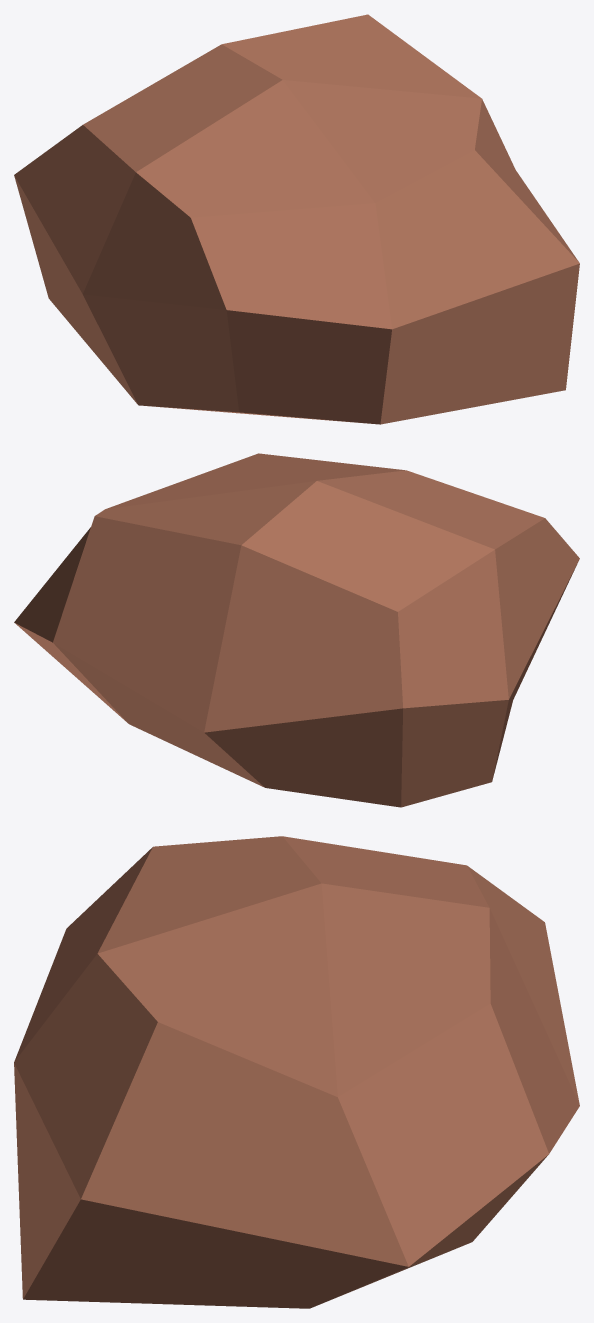
Rendered from kamien 2.fbx.
3 renders of one model, top to bottom at view 1: azimuth 30°, elevation 25°; view 2: azimuth 150°, elevation 25°; view 3: azimuth 270°, elevation 25°, orthographic. The views are drawn at different scales.
Parts seen in each view (by area): view 1: Cube; view 2: Cube; view 3: Cube.
Part boxes in pixels (x1,y1,x2,y2): Cube: (14, 14, 579, 424); Cube: (14, 453, 579, 807); Cube: (14, 836, 579, 1308).
Bounding box in the file's own units: 304 × 172 × 261.
Materials: 1 (1 with a texture image).
